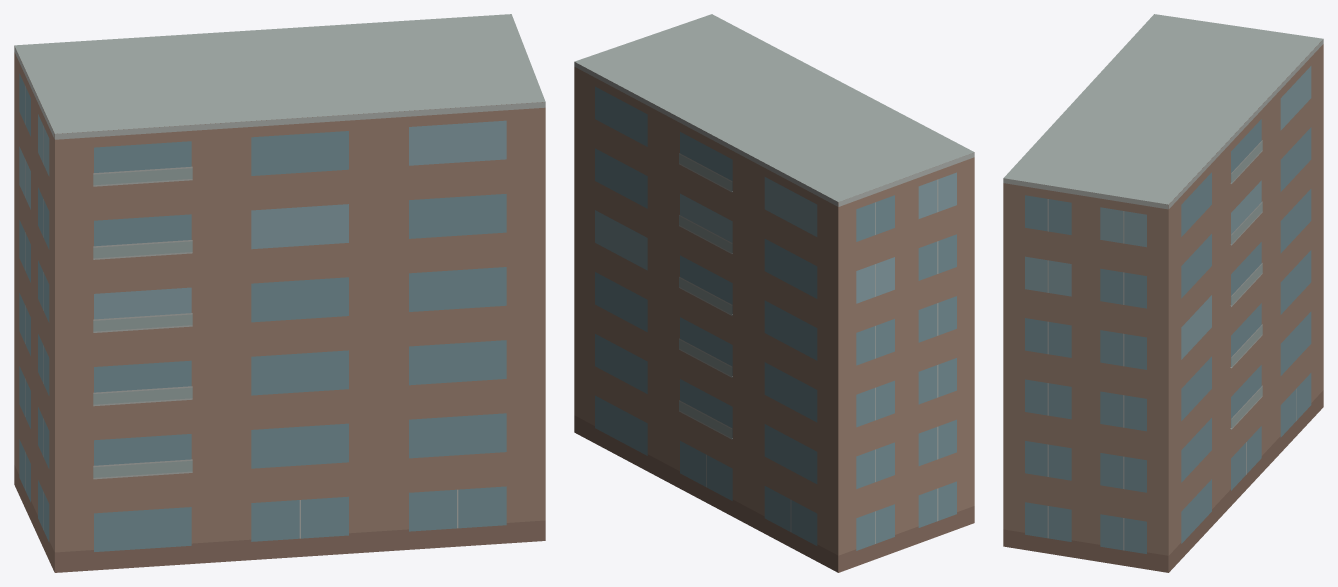
Rendered from survey-upis-32871837.glb.
3 renders of one model, left to right at view 1: azimuth 30°, elevation 25°; view 2: azimuth 150°, elevation 25°; view 3: azimuth 270°, elevation 25°, orthographic. The views are drawn at different scales.
Visible parts, largest first — view 1: survey-upis-32871837.tmp; view 2: survey-upis-32871837.tmp; view 3: survey-upis-32871837.tmp.
Boxes of the visible parts, bbox=[...] form: survey-upis-32871837.tmp: bbox=[14, 14, 545, 572]; survey-upis-32871837.tmp: bbox=[574, 14, 974, 572]; survey-upis-32871837.tmp: bbox=[1003, 14, 1323, 572].
Bounding box in the file's own units: 20.32 × 18.3 × 14.43.
